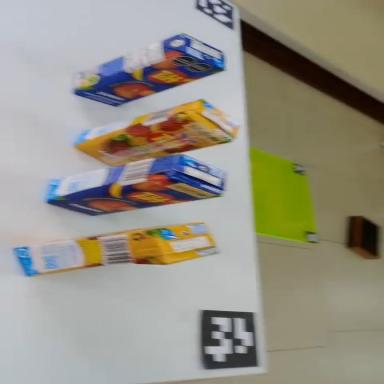HIT-MANGO: (66, 23, 228, 119), (41, 147, 227, 223)
HIT-MORA: (71, 93, 241, 174), (12, 221, 219, 279)
cara_F: (74, 42, 224, 118), (74, 107, 230, 176), (47, 170, 219, 223)
